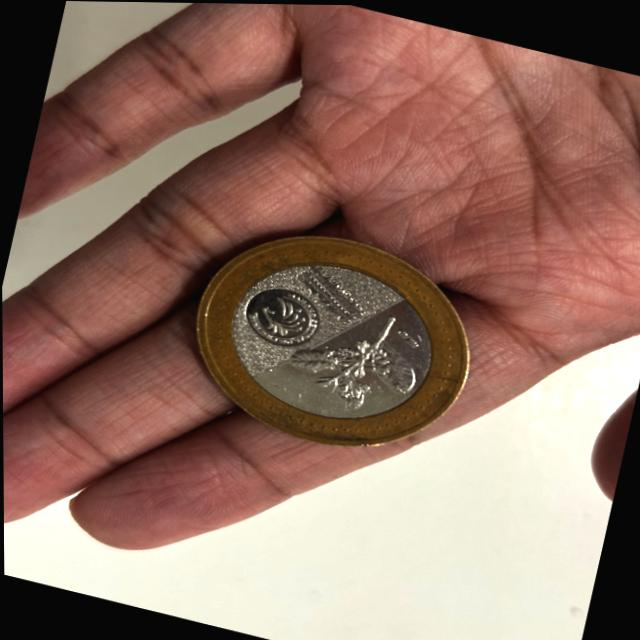20_New_Back: (275, 289, 437, 427)
